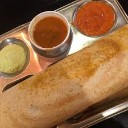dosa: (1, 24, 126, 128)
